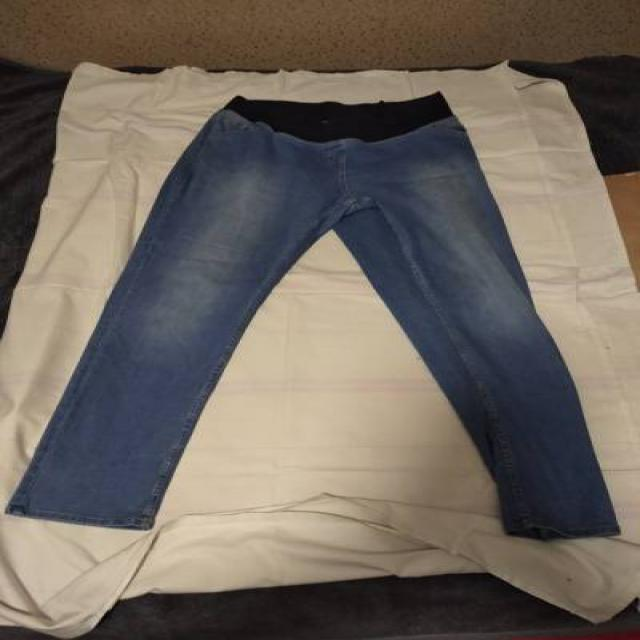Clothes -Biodegradable-: (9, 91, 625, 535)
